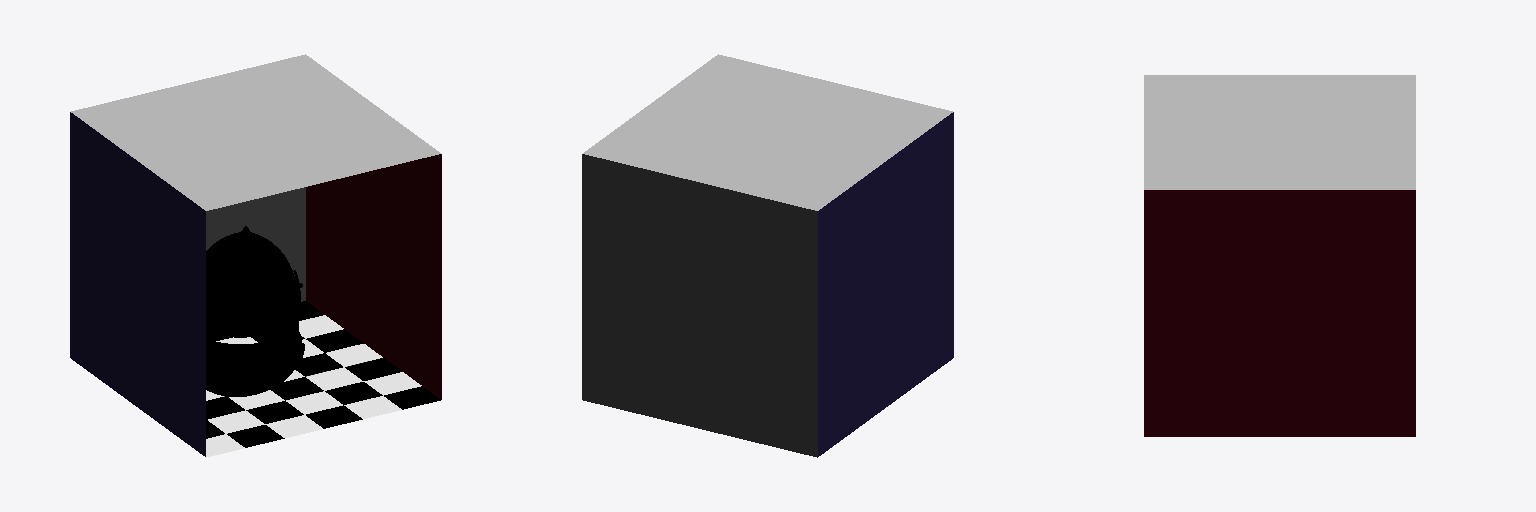
3 renders of one model, left to right at view 1: azimuth 30°, elevation 25°; view 2: azimuth 150°, elevation 25°; view 3: azimuth 270°, elevation 25°, orthographic.
Parts seen in each view (by area): view 1: LeftWall_LeftWall_LeftWall, Ceiling_Ceiling_Ceiling, RightWall_RightWall_RightWall, Floor_cher.jpg_Floor_cher.jpg_Floor_cher.jpg_wood.jpg, Helmet2, BackWall_cher.jpg_che_BackWall_cher.jpg_che_BackWall_cher.jpg_c, Helmet1; view 2: BackWall_cher.jpg_che_BackWall_cher.jpg_che_BackWall_cher.jpg_c, LeftWall_LeftWall_LeftWall, Ceiling_Ceiling_Ceiling; view 3: RightWall_RightWall_RightWall, Ceiling_Ceiling_Ceiling.
Part boxes in pixels (x1,y1,x2,y2): LeftWall_LeftWall_LeftWall: (70, 112, 205, 456); Ceiling_Ceiling_Ceiling: (71, 54, 440, 210); RightWall_RightWall_RightWall: (306, 154, 441, 399); Floor_cher.jpg_Floor_cher.jpg_Floor_cher.jpg_wood.jpg: (206, 301, 440, 457); Helmet2: (206, 270, 304, 396); BackWall_cher.jpg_che_BackWall_cher.jpg_che_BackWall_cher.jpg_c: (206, 187, 305, 301); Helmet1: (206, 226, 301, 340); BackWall_cher.jpg_che_BackWall_cher.jpg_che_BackWall_cher.jpg_c: (582, 154, 817, 457); LeftWall_LeftWall_LeftWall: (818, 112, 953, 456); Ceiling_Ceiling_Ceiling: (583, 54, 952, 210); RightWall_RightWall_RightWall: (1144, 190, 1415, 436); Ceiling_Ceiling_Ceiling: (1144, 75, 1415, 189).
Bounding box in the file's own units: 17.11 × 17.11 × 17.11.
Materials: 8 (1 with a texture image).